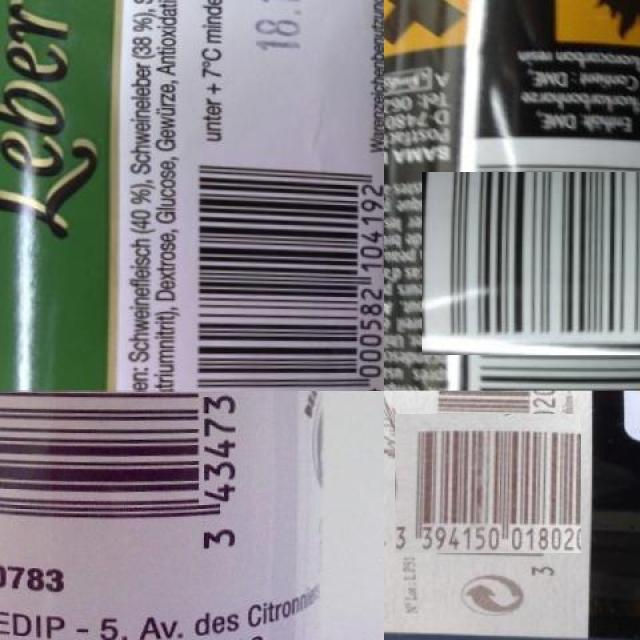Barcode: (183, 154, 384, 390), (439, 155, 640, 373), (0, 390, 256, 554), (407, 402, 570, 566)
